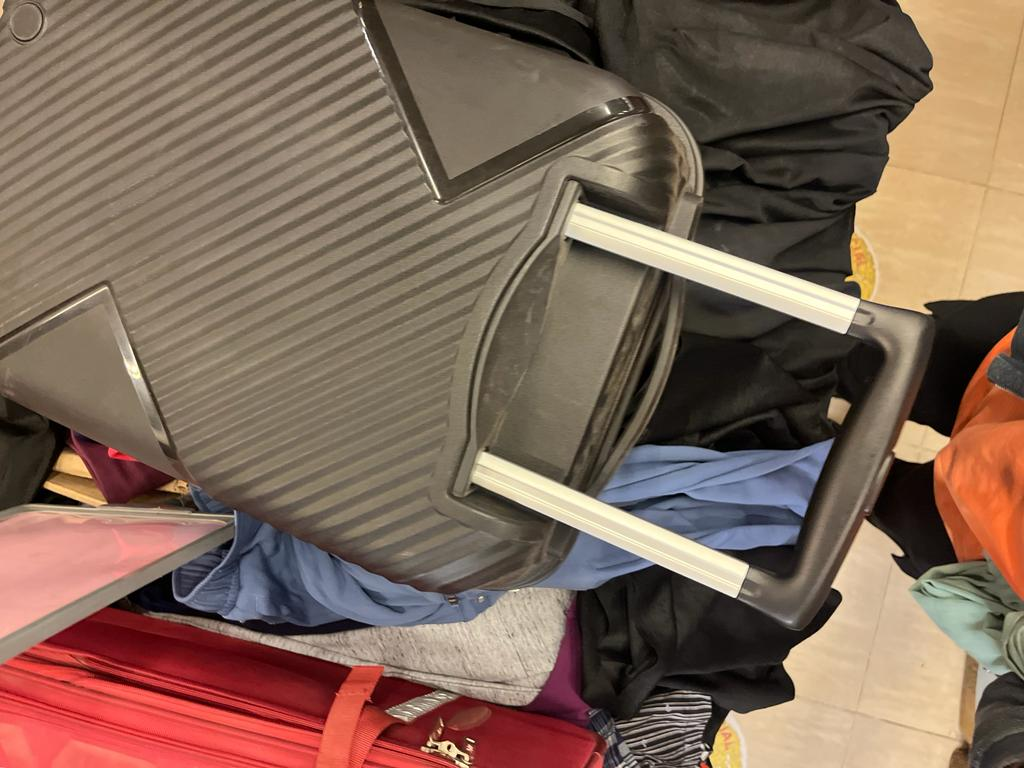Bag: (0, 0, 943, 654)
Handle: (465, 190, 940, 628)
